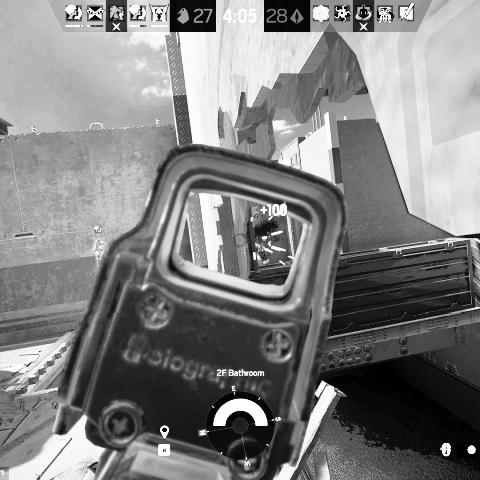Character: (253, 238, 272, 266)
Friend_label: (88, 225, 107, 241)
